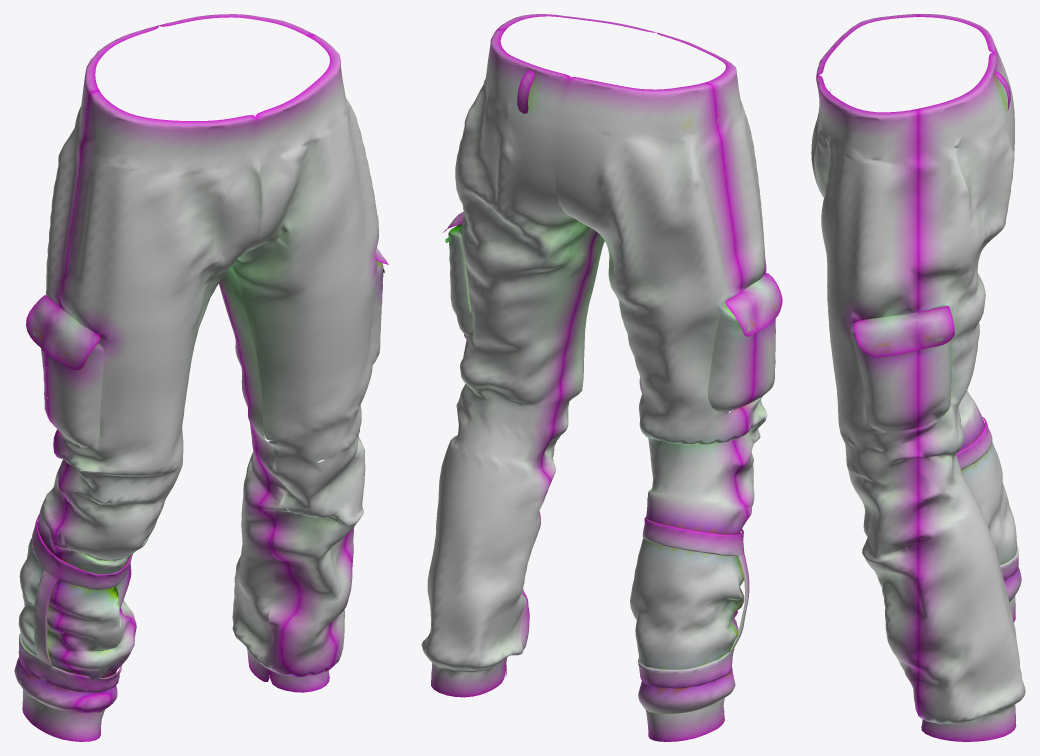
File: joggers.glb
3 views of the same model, side by side, from view 1: azimuth 30°, elevation 25°; view 2: azimuth 150°, elevation 25°; view 3: azimuth 270°, elevation 25° (orthographic). The views are drawn at different scales.
Parts seen in each view (by area): view 1: front, back; view 2: back, front; view 3: back, front.
Part boxes in pixels (box(x1,y1,x2,y2)): front: box(26, 34, 388, 711); back: box(14, 14, 354, 741); back: box(421, 29, 755, 741); front: box(443, 14, 782, 626); back: box(918, 14, 1025, 741); front: box(811, 14, 954, 714).
Bounding box in the file's own units: 0.5174 × 1.02 × 0.3176.
